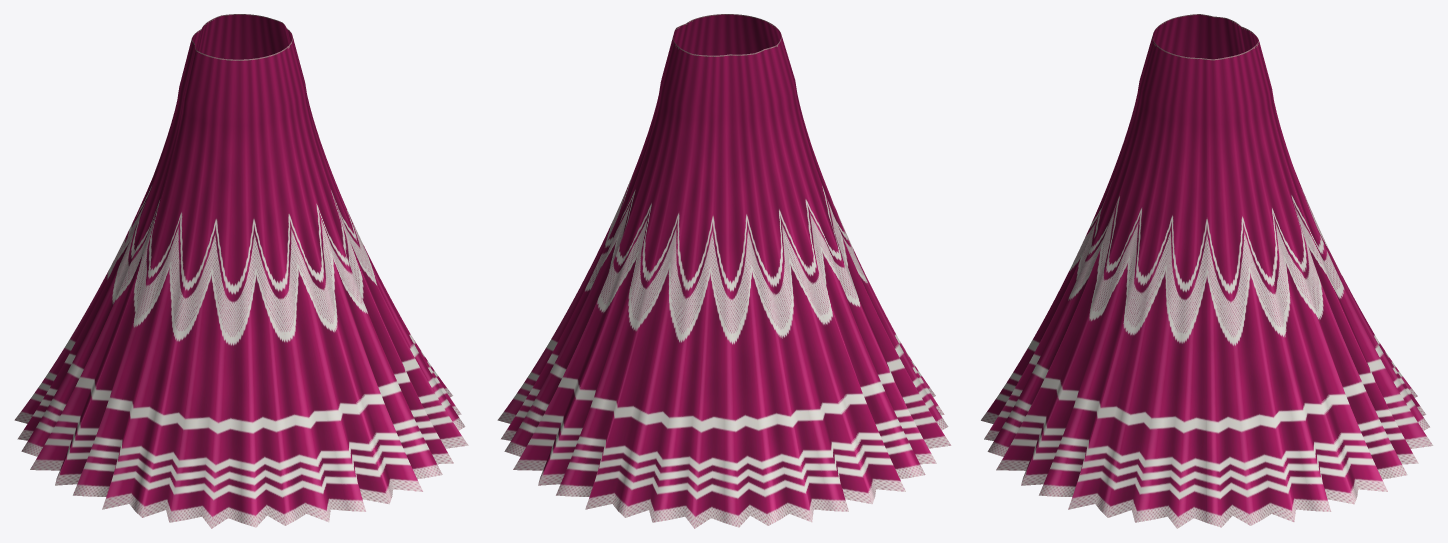
Rendered from china_falda.obj.
3 renders of one model, left to right at view 1: azimuth 30°, elevation 25°; view 2: azimuth 150°, elevation 25°; view 3: azimuth 270°, elevation 25°, orthographic.
Visible parts, largest first — view 1: china_falda; view 2: china_falda; view 3: china_falda.
Part boxes in pixels (box(x1,y1,x2,y2)): china_falda: box(14, 14, 468, 528); china_falda: box(497, 14, 951, 528); china_falda: box(981, 14, 1433, 528).
Size of the model in its own units: 1.17 by 1.13 by 1.17.
